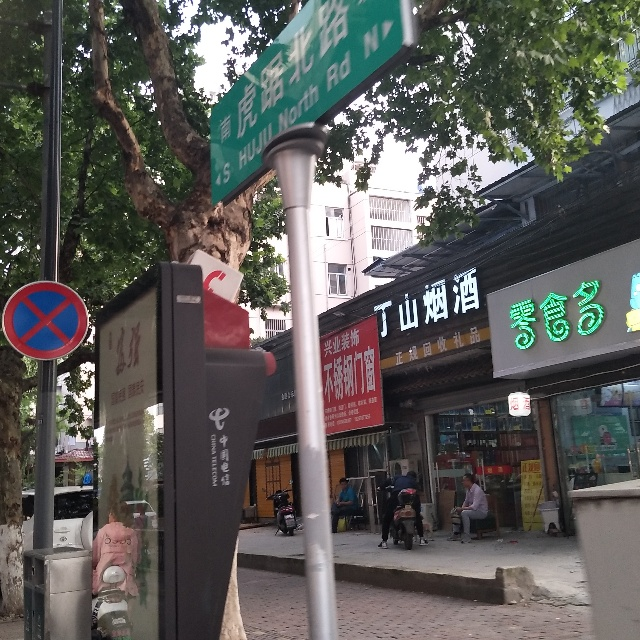stop: (5, 281, 90, 359)
